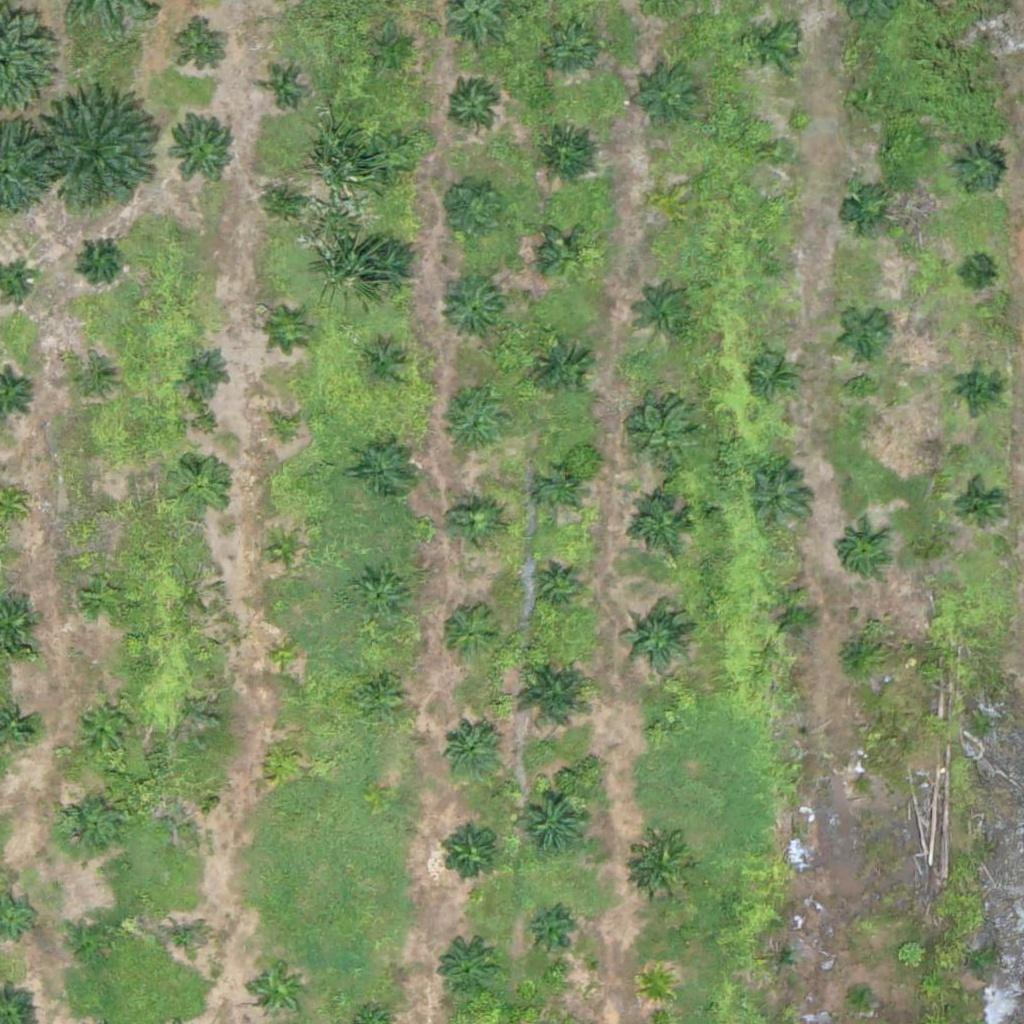Kelapa_Sawit: (41, 93, 166, 218), (511, 652, 598, 740), (619, 603, 694, 679), (433, 173, 508, 249), (514, 783, 589, 858), (165, 109, 240, 184), (437, 601, 500, 664), (442, 394, 505, 457), (440, 718, 503, 781), (748, 467, 811, 530), (631, 835, 694, 898), (56, 792, 119, 855), (355, 437, 418, 500), (246, 960, 309, 1023), (351, 567, 414, 630), (356, 237, 419, 300), (636, 66, 699, 129), (535, 121, 598, 184), (441, 278, 503, 341), (434, 938, 496, 1001), (438, 821, 500, 884), (531, 338, 593, 401), (631, 495, 693, 558), (633, 405, 696, 467), (639, 283, 701, 346), (74, 695, 136, 758), (170, 455, 232, 518), (951, 480, 1001, 531), (360, 341, 410, 392), (179, 26, 229, 77), (744, 16, 794, 67), (951, 141, 1001, 192), (769, 593, 819, 644), (831, 628, 881, 679), (367, 135, 417, 186), (159, 915, 209, 966), (71, 913, 121, 964), (449, 500, 499, 550), (521, 909, 571, 959), (953, 363, 1003, 413), (841, 308, 891, 358), (541, 230, 591, 280), (748, 351, 798, 401), (836, 526, 886, 576), (354, 668, 404, 718), (449, 82, 499, 132), (543, 23, 593, 73), (843, 188, 893, 238), (180, 346, 230, 396), (80, 571, 130, 621), (530, 561, 579, 612), (274, 311, 312, 349), (81, 239, 119, 277), (851, 84, 889, 122), (637, 966, 675, 1004), (374, 28, 412, 66), (267, 412, 305, 450), (265, 531, 303, 569), (267, 638, 305, 676), (263, 738, 301, 776), (540, 470, 577, 508), (764, 940, 801, 978), (75, 363, 112, 401), (87, 492, 124, 530), (170, 790, 207, 828), (265, 73, 302, 110), (269, 183, 306, 220), (974, 17, 999, 42), (963, 260, 988, 285), (762, 253, 787, 278), (762, 137, 787, 162), (657, 191, 682, 216), (849, 980, 874, 1005), (846, 771, 871, 796), (647, 718, 672, 743)
